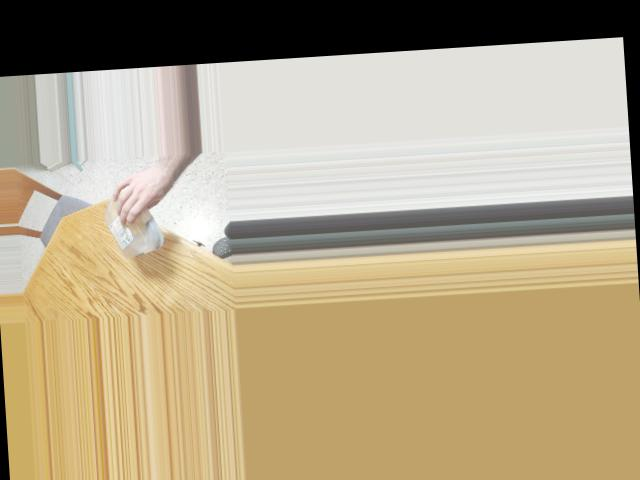cheese: (112, 194, 158, 255)
